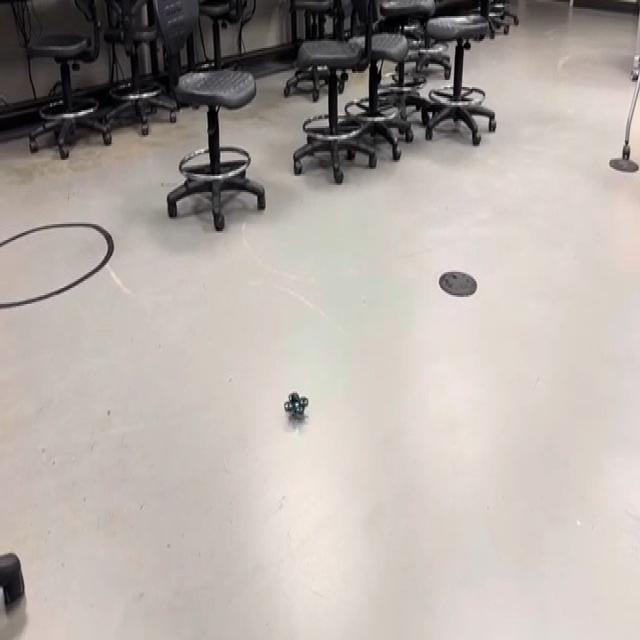drone: (276, 380, 314, 433)
